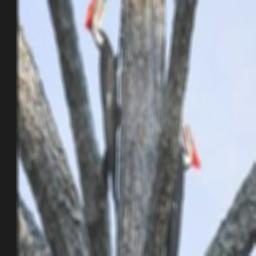Woodpecker: (86, 0, 124, 218), (162, 101, 201, 256)
